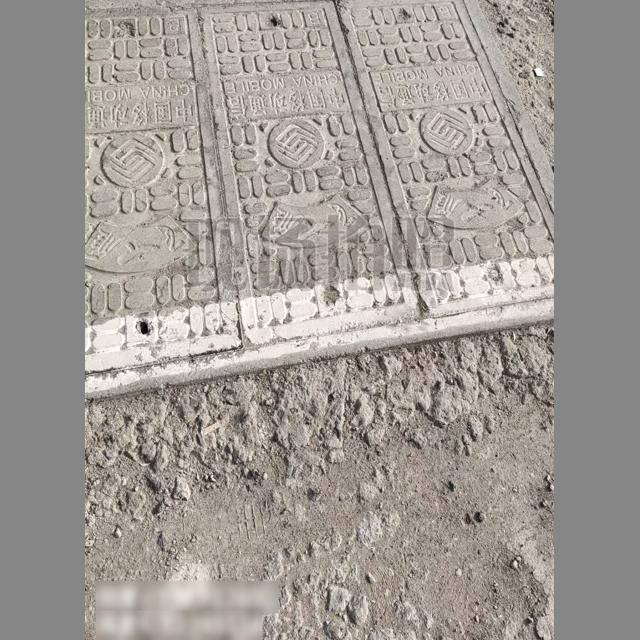good: (85, 0, 554, 401)
